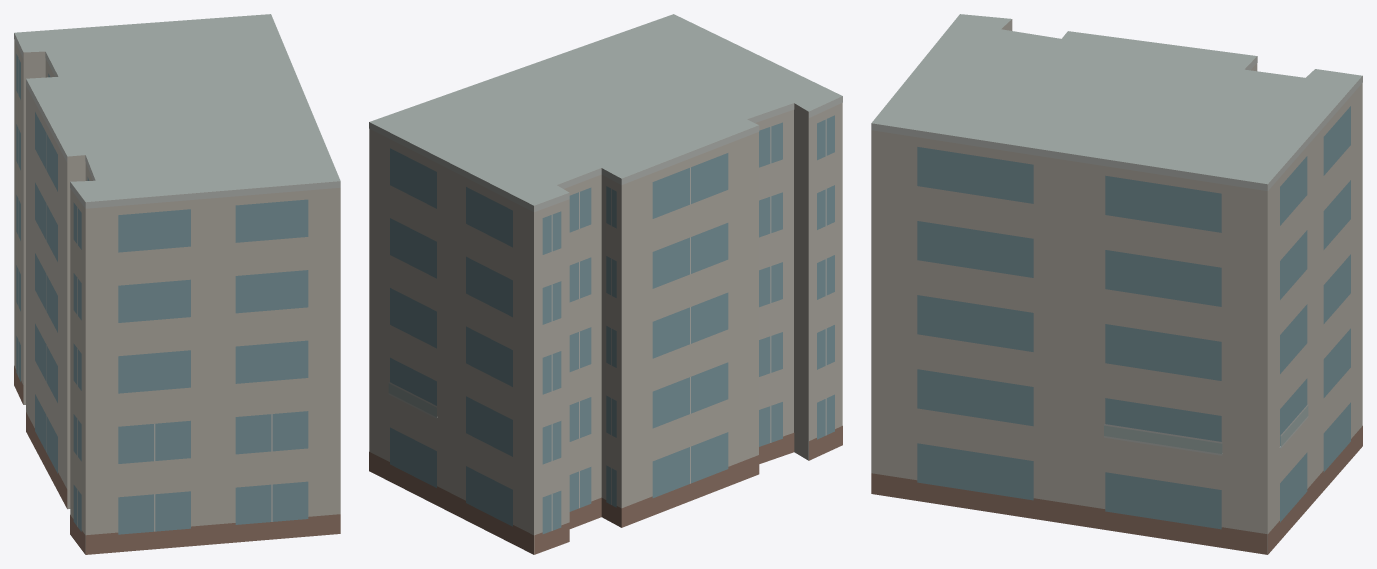
File: survey-upis-32888337.glb
3 renders of one model, left to right at view 1: azimuth 30°, elevation 25°; view 2: azimuth 150°, elevation 25°; view 3: azimuth 270°, elevation 25°, orthographic. The views are drawn at different scales.
Parts seen in each view (by area): view 1: survey-upis-32888337.tmp; view 2: survey-upis-32888337.tmp; view 3: survey-upis-32888337.tmp.
Part boxes in pixels (x1,y1,x2,y2): survey-upis-32888337.tmp: (14,14,340,554); survey-upis-32888337.tmp: (369,14,842,554); survey-upis-32888337.tmp: (871,14,1362,554).
Bounding box in the file's own units: 12.92 × 13.1 × 15.75.
